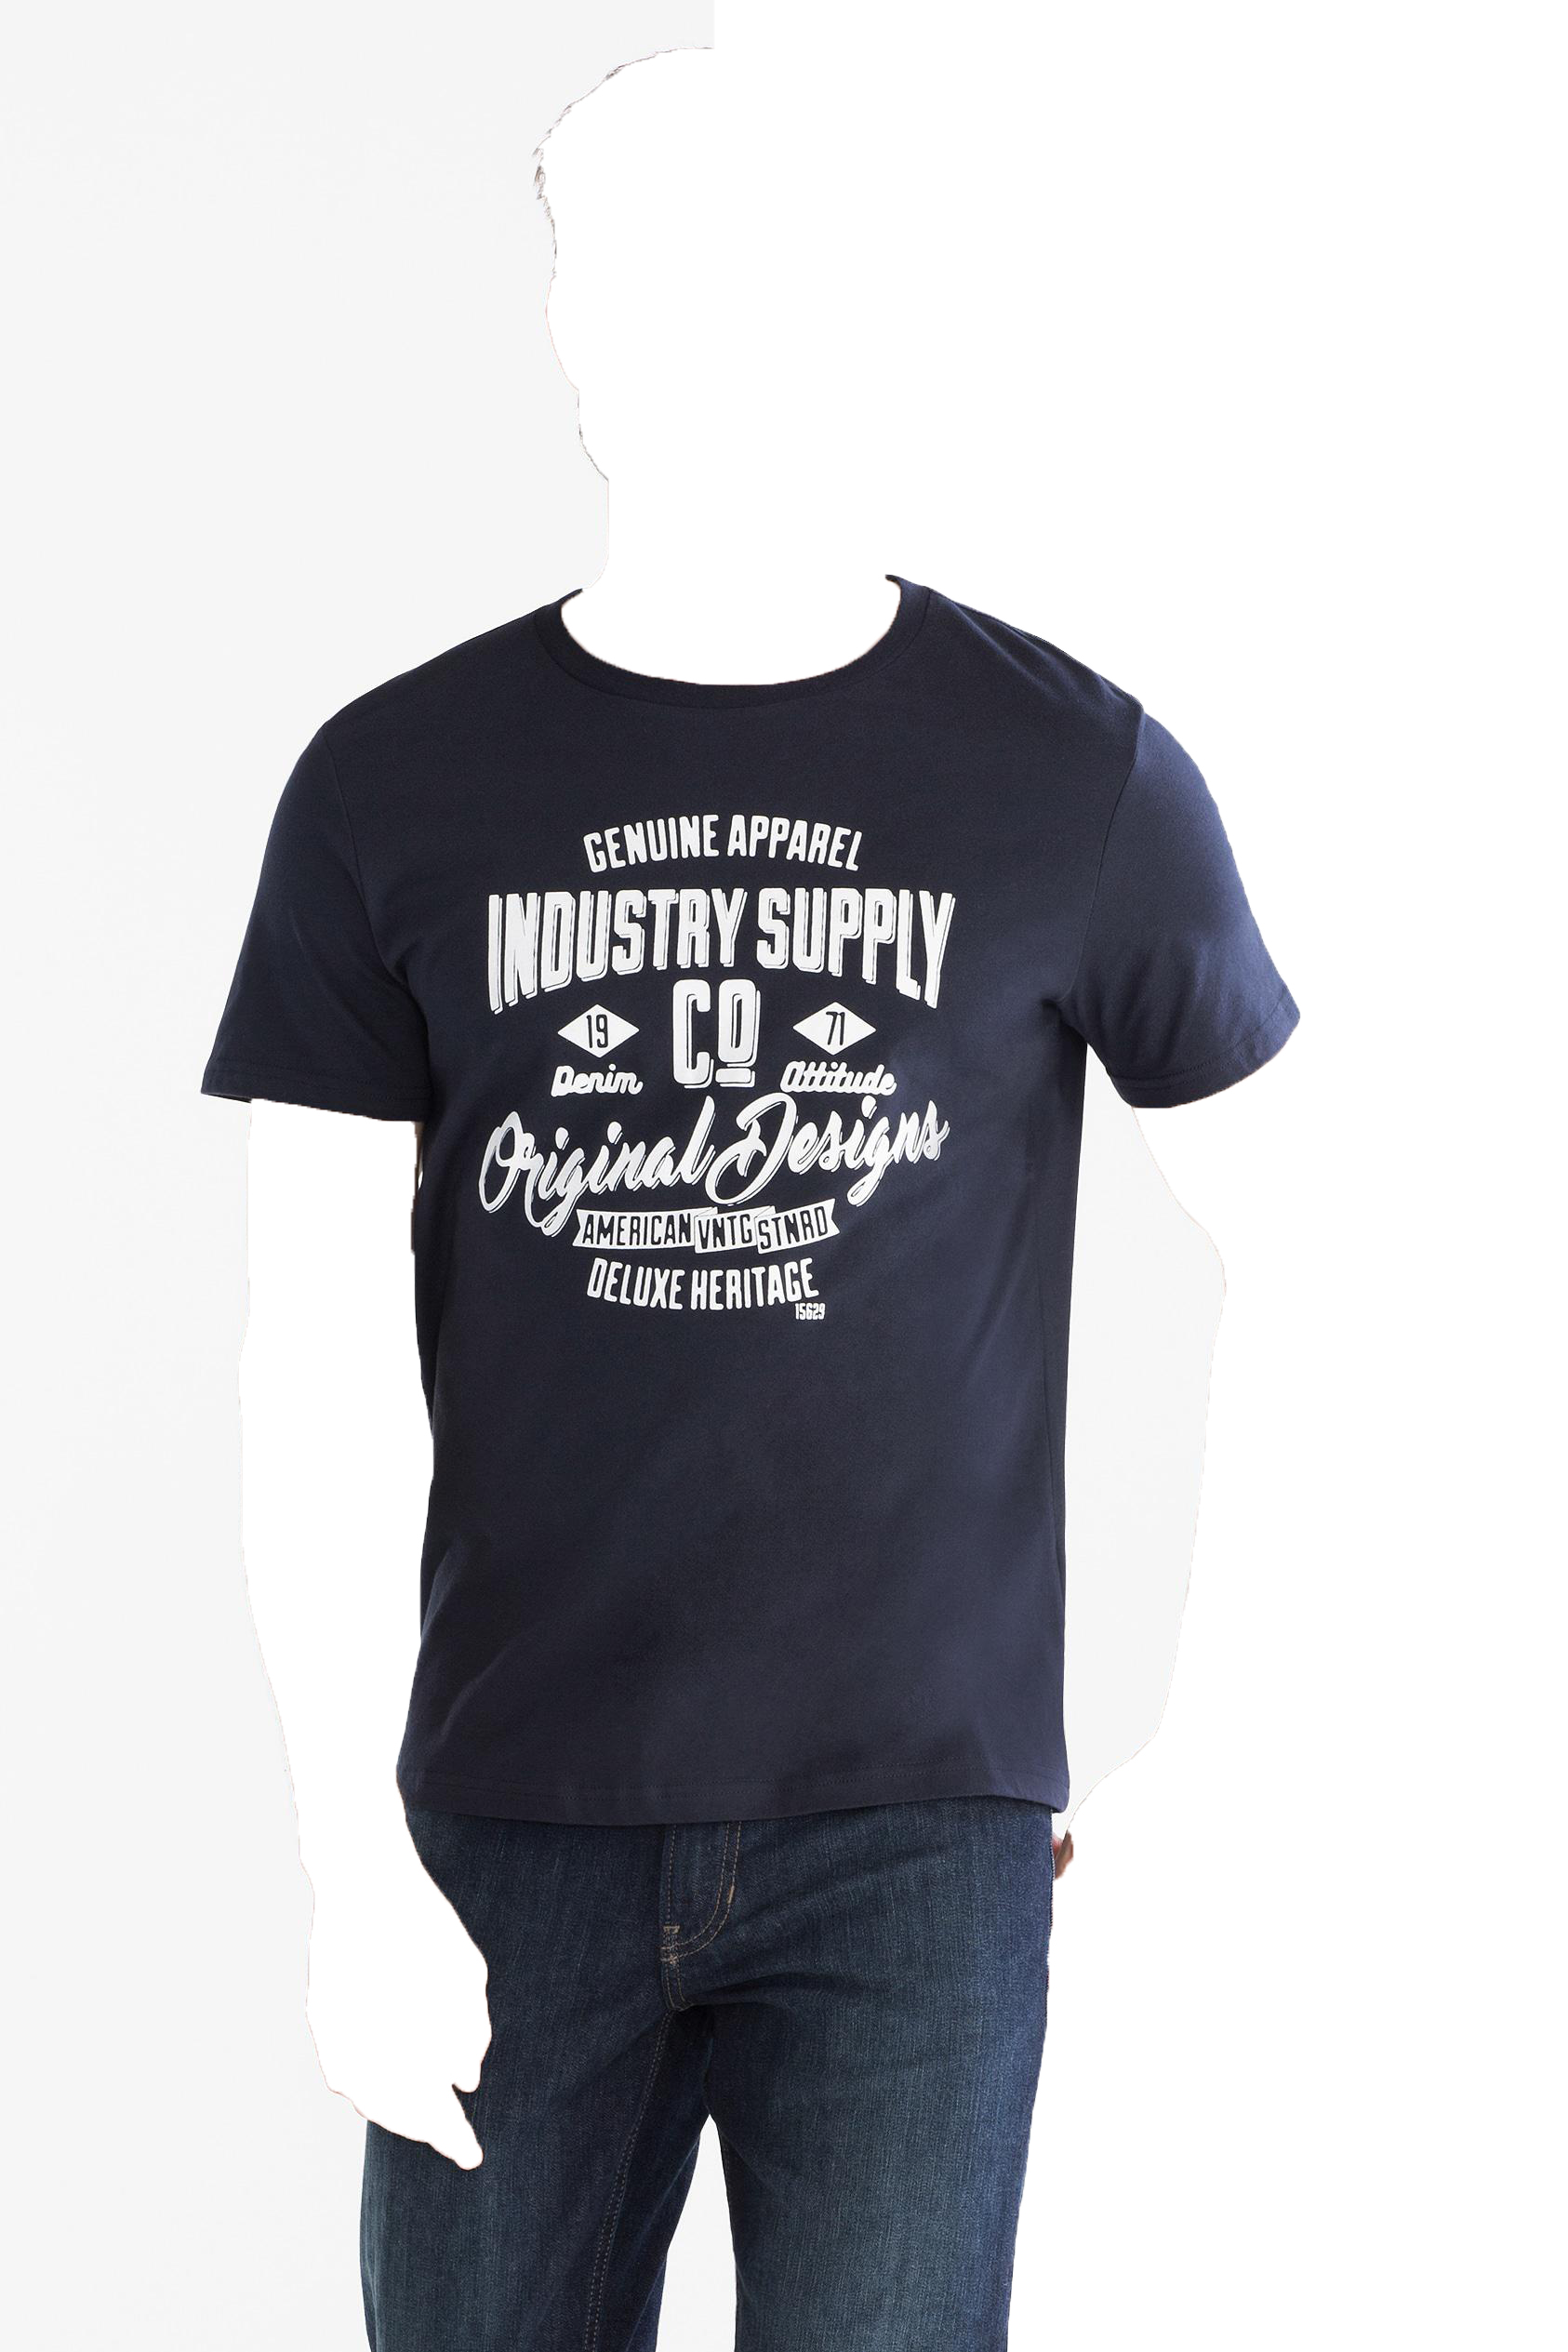teeshirt: (196, 567, 1311, 1855)
